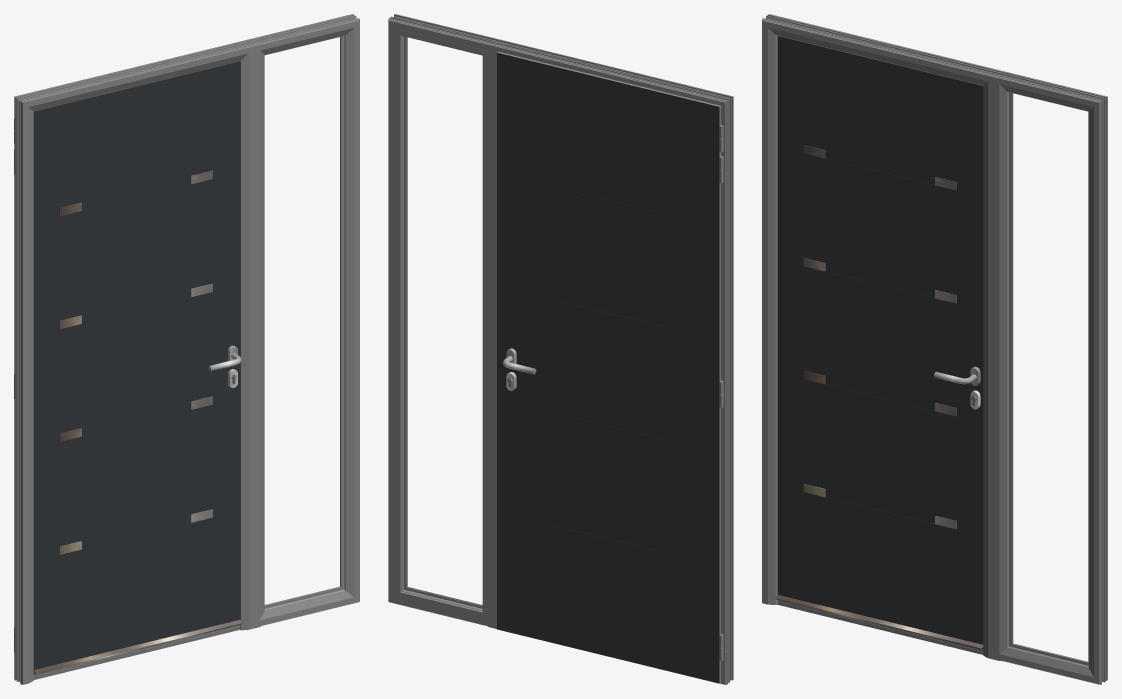
3 renders of one model, left to right at view 1: azimuth 30°, elevation 25°; view 2: azimuth 150°, elevation 25°; view 3: azimuth 330°, elevation 25°, orthographic.
Parts seen in each view (by area): view 1: bloco_123, Rectangle002, Line004, Object, Object001, alunox_074, Line005, Rectangle005, Rectangle003; view 2: bloco_123, Rectangle002, Rectangle003, Line004, Object001, Rectangle004, Object; view 3: bloco_123, Rectangle002, Line004, Object001, Object, alunox_074, Line005, Rectangle003, Rectangle005.
Boxes of the visible parts, x1,y1,x2,y2 form: bloco_123: (33, 61, 240, 671); Rectangle002: (14, 14, 359, 684); Line004: (240, 46, 264, 630); Object: (33, 35, 346, 680); Object001: (264, 36, 344, 608); alunox_074: (59, 170, 212, 554); Line005: (33, 620, 242, 674); Rectangle005: (33, 625, 240, 679); Rectangle003: (264, 37, 340, 605); bloco_123: (497, 52, 719, 683); Rectangle002: (388, 14, 733, 684); Rectangle003: (394, 28, 487, 619); Line004: (488, 41, 504, 628); Object001: (401, 36, 482, 610); Rectangle004: (496, 51, 720, 683); Object: (404, 36, 482, 608); bloco_123: (777, 36, 983, 644); Rectangle002: (762, 14, 1107, 684); Line004: (983, 77, 1007, 661); Object001: (1007, 92, 1088, 665); Object: (776, 35, 1088, 667); alunox_074: (803, 145, 956, 529); Line005: (775, 595, 983, 649); Rectangle003: (1012, 93, 1087, 662); Rectangle005: (777, 600, 983, 654).
Size of the model in its own units: 1307 by 2150 by 192.
6 materials, 4 textured.
